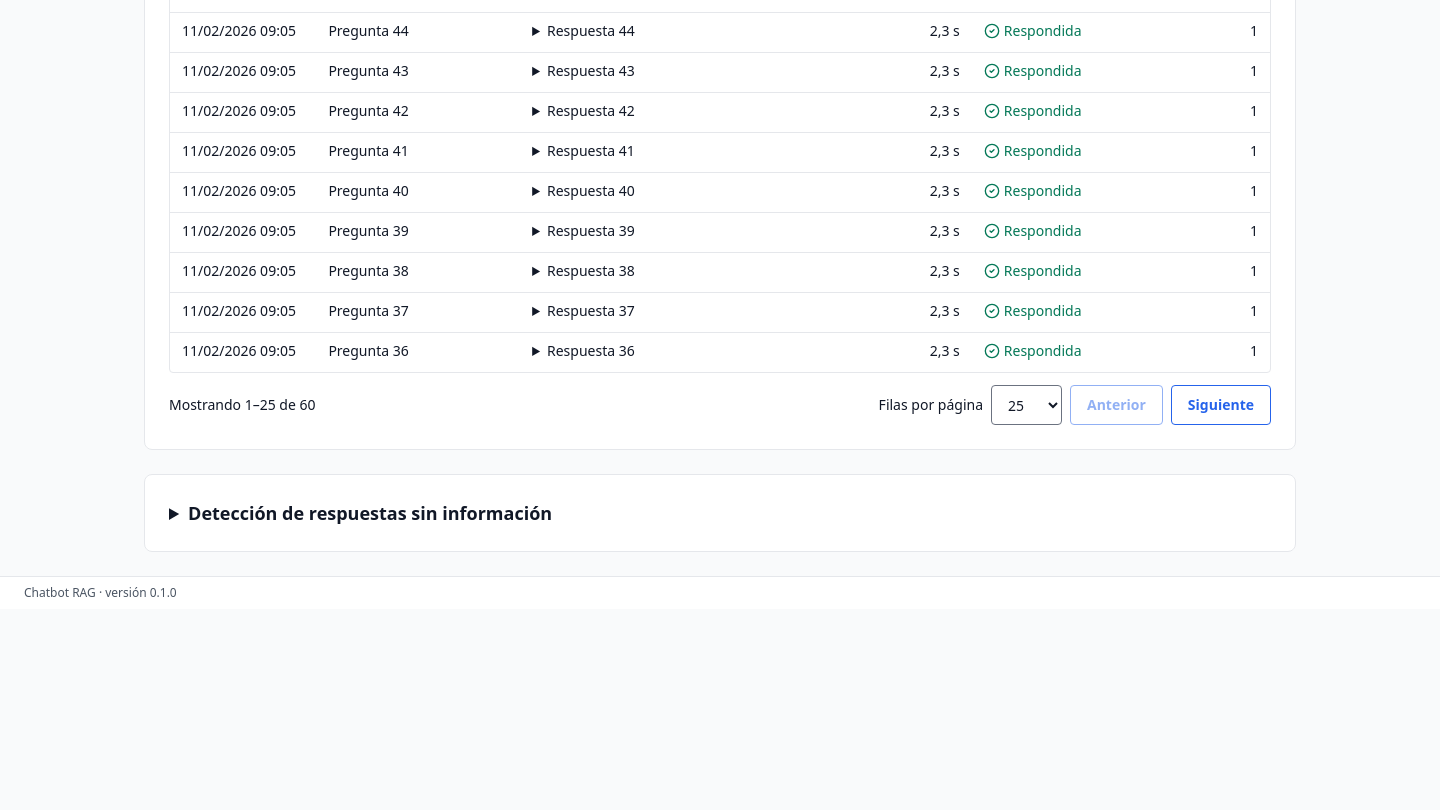
Test case: DashboardPage › tabla de preguntas paginada con resultado en texto
(page scrolled)
Expected: the text "Mostrando 1–25 de 60" is shown, [169, 395, 316, 415]
Expected: the button "Anterior" is disabled, [1070, 385, 1163, 425]
Click the button "Siguiente". click: (1221, 405)
box: [1171, 385, 1271, 425]
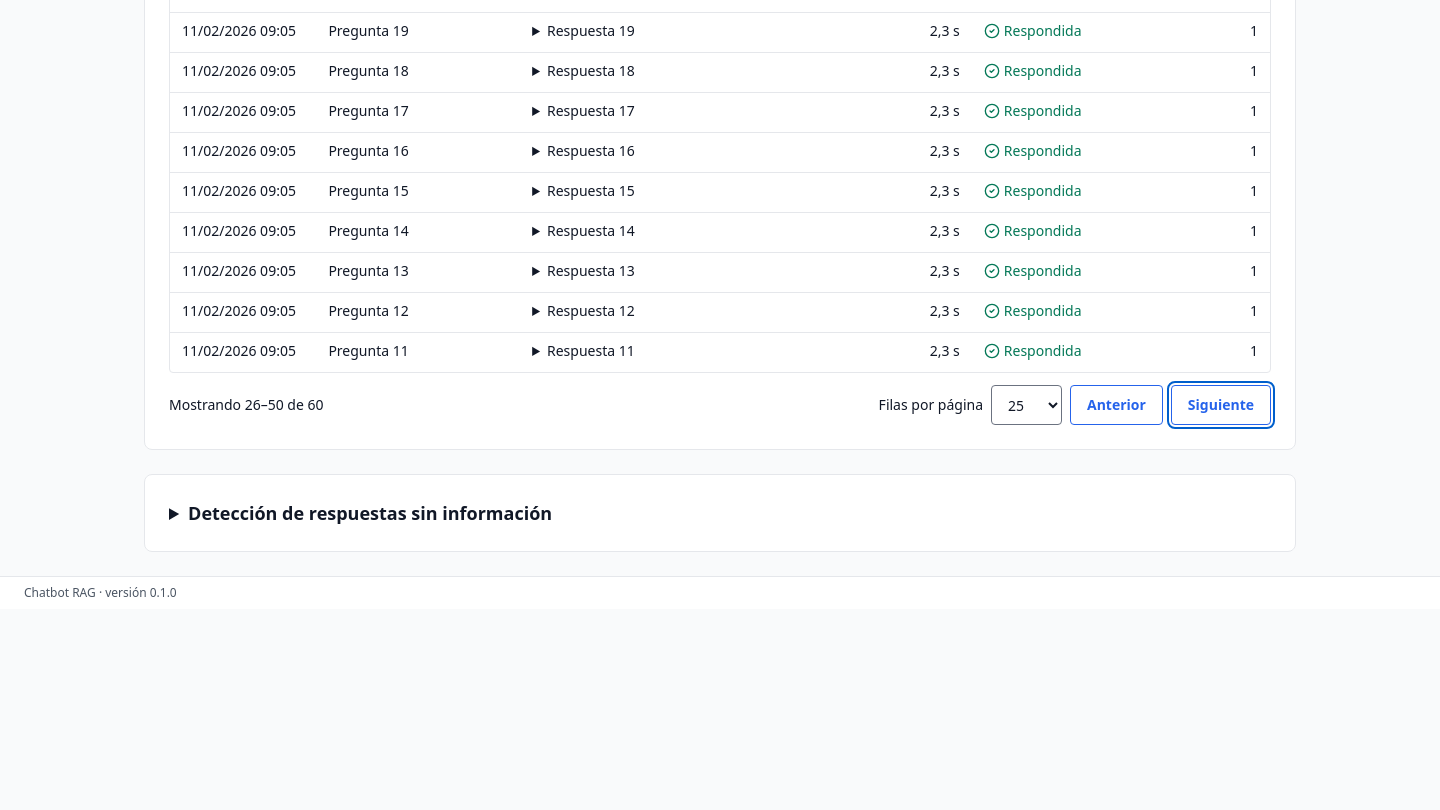
Expected: the text "Mostrando 26–50 de 60" is shown, [169, 395, 324, 415]
Select "50" in the dropdown labelled "Filas por página". click: (1026, 405)
box: [991, 385, 1062, 425]
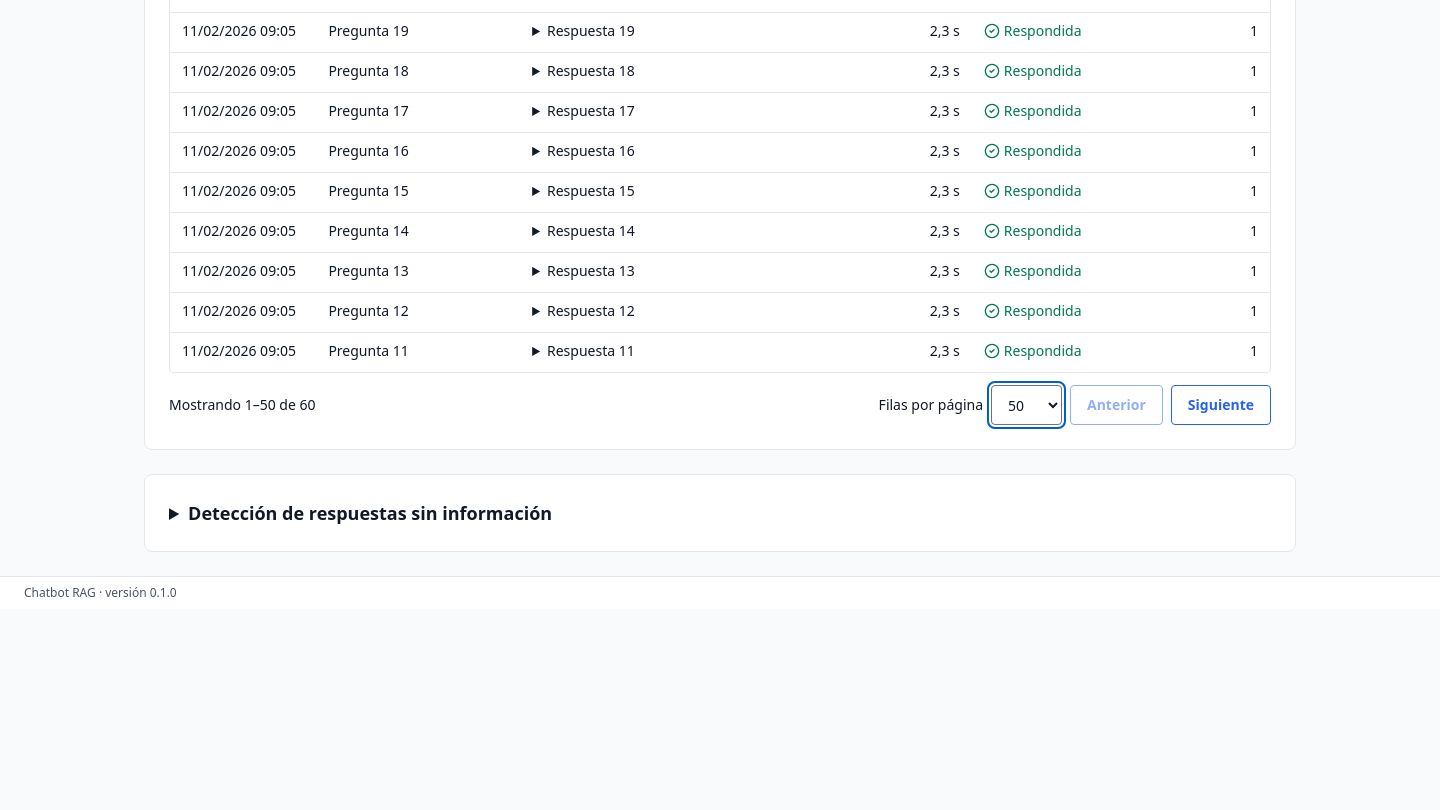
Expected: the text "Mostrando 1–50 de 60" is shown, [169, 395, 316, 415]
